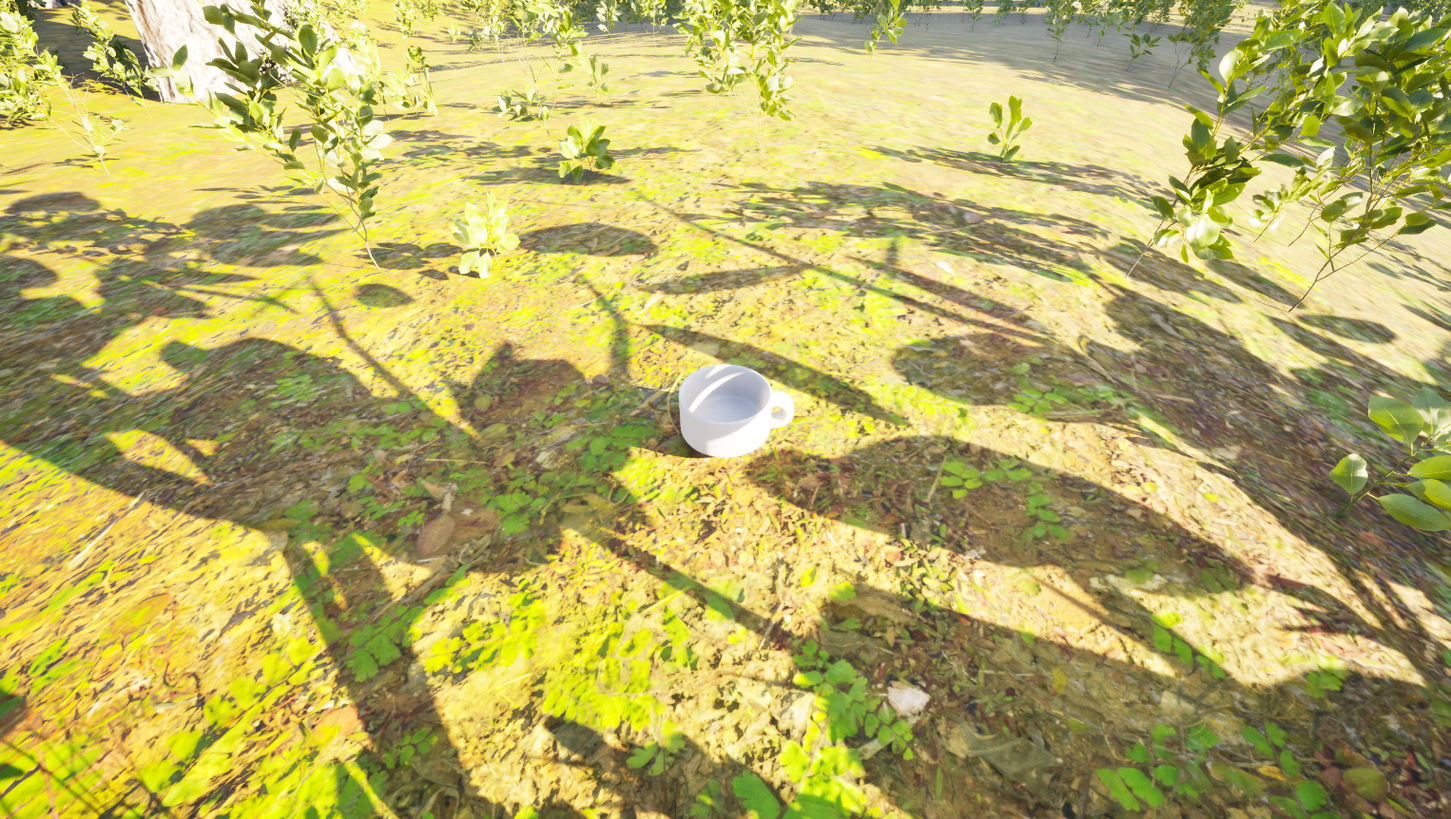Teacup: (660, 354, 802, 478)
